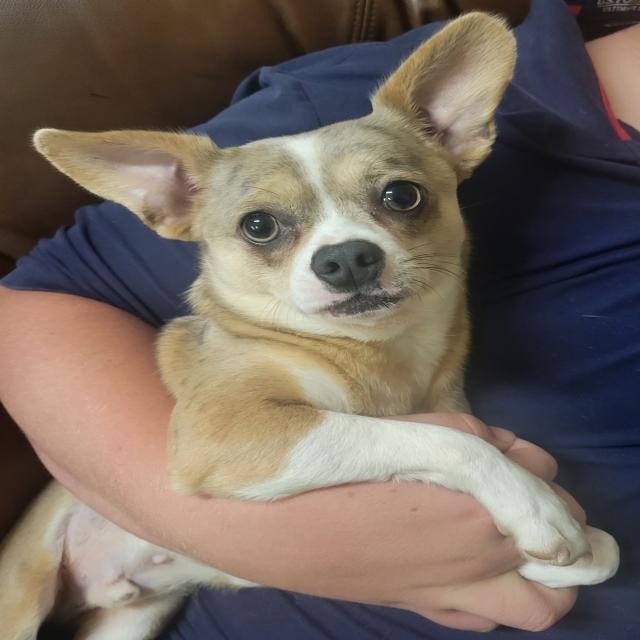chihuahua_dog: (5, 6, 562, 368)
